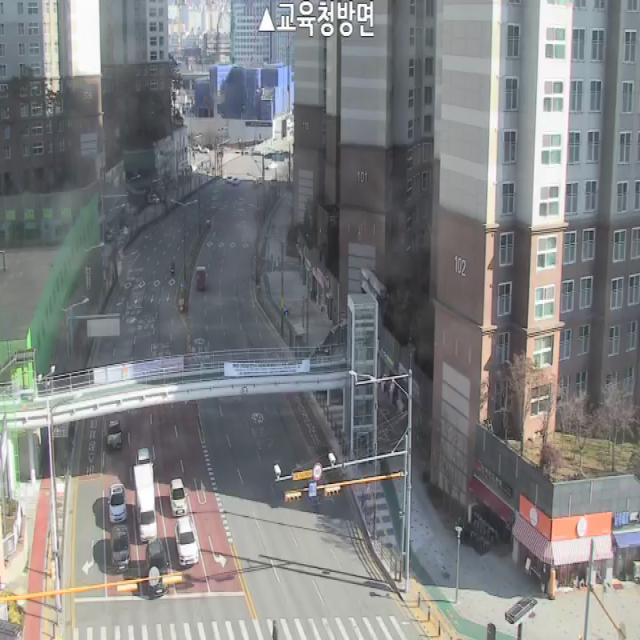Car: (146, 539, 169, 597), (174, 518, 198, 566), (110, 525, 130, 573), (108, 484, 126, 523), (170, 478, 188, 516), (108, 420, 121, 450), (136, 448, 151, 464), (196, 266, 206, 289)
Truck: (133, 464, 157, 542)
